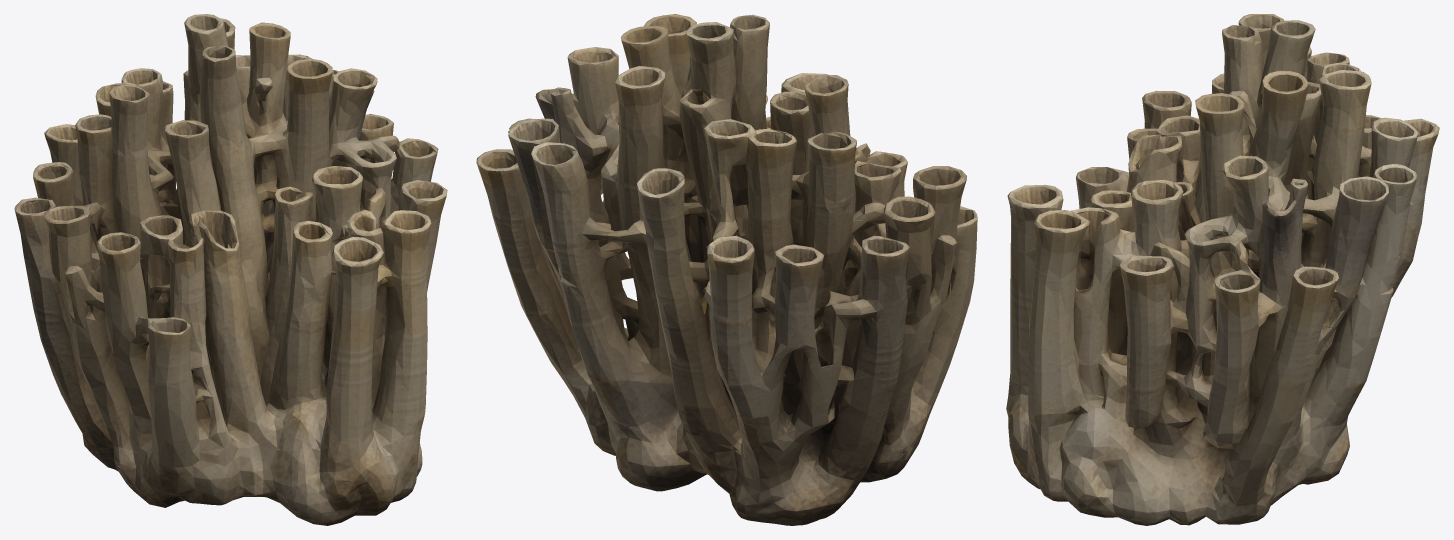
3 views of the same model, side by side, from view 1: azimuth 30°, elevation 25°; view 2: azimuth 150°, elevation 25°; view 3: azimuth 270°, elevation 25° (orthographic). The views are drawn at different scales.
Parts seen in each view (by area): view 1: world; view 2: world; view 3: world.
Boxes of the visible parts, box(x1,y1,x2,y2) form: world: box(14, 14, 447, 525); world: box(476, 14, 977, 525); world: box(1006, 14, 1439, 525).
Bounding box in the file's own units: 0.882 × 0.933 × 0.8195.
Materials: 1 (1 with a texture image).
